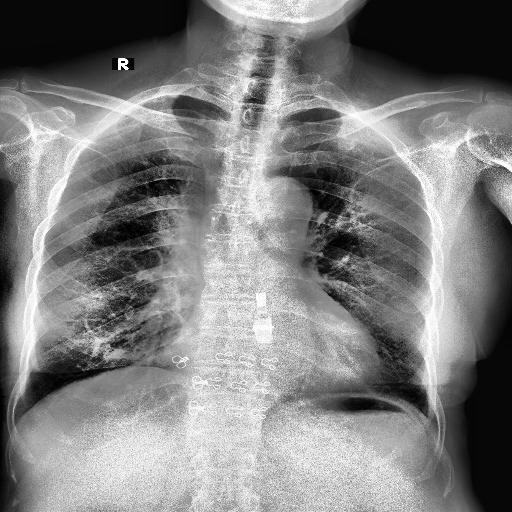0- Aortic enlargement: (244, 173, 314, 239), (249, 178, 315, 242), (262, 174, 314, 224)
3- Cardiomegaly: (161, 325, 386, 396), (172, 320, 381, 394)
